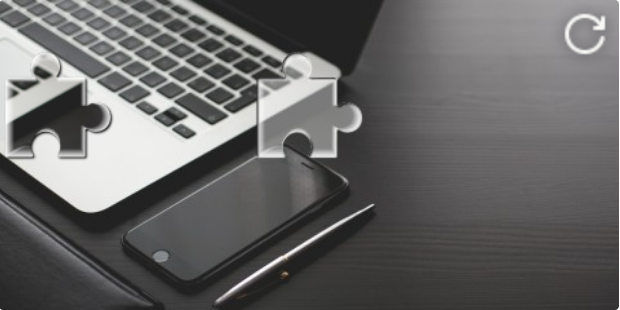target: (258, 54, 362, 158)
